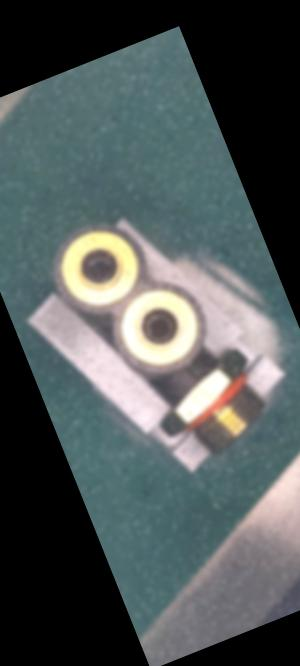craze: (183, 362, 202, 387)
